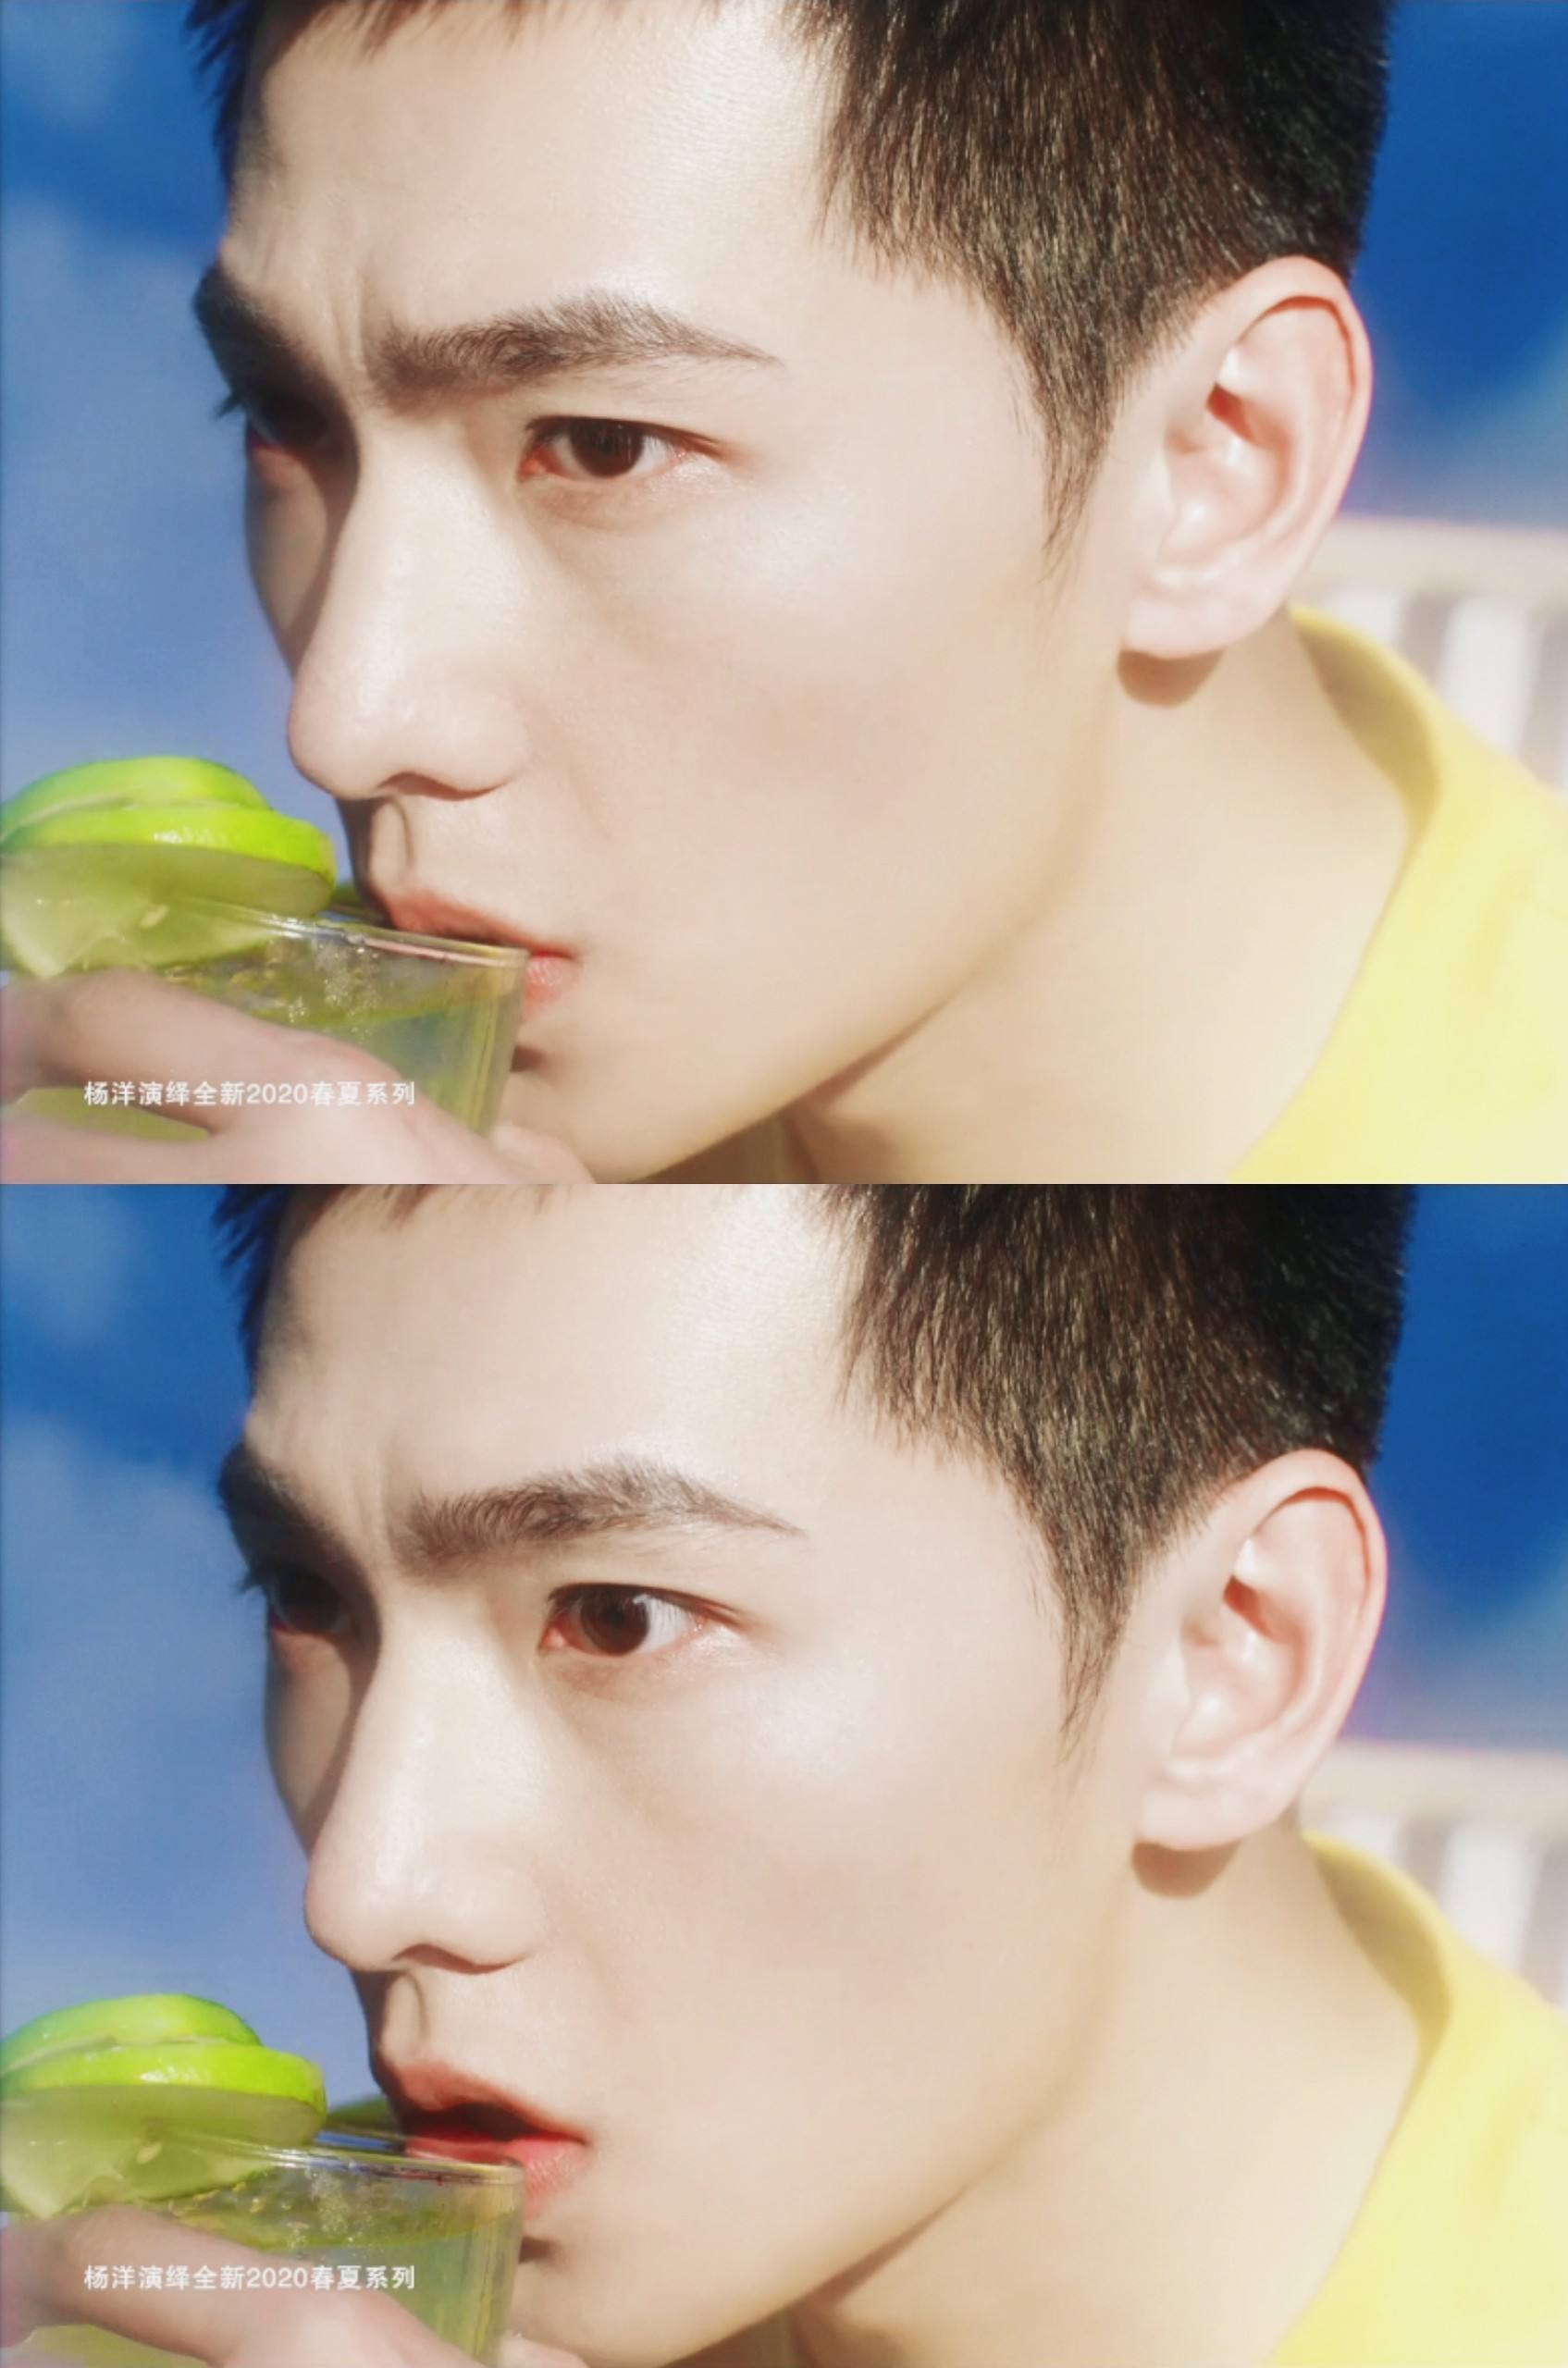person: (144, 26, 1382, 1236), (150, 1261, 1370, 2368)
